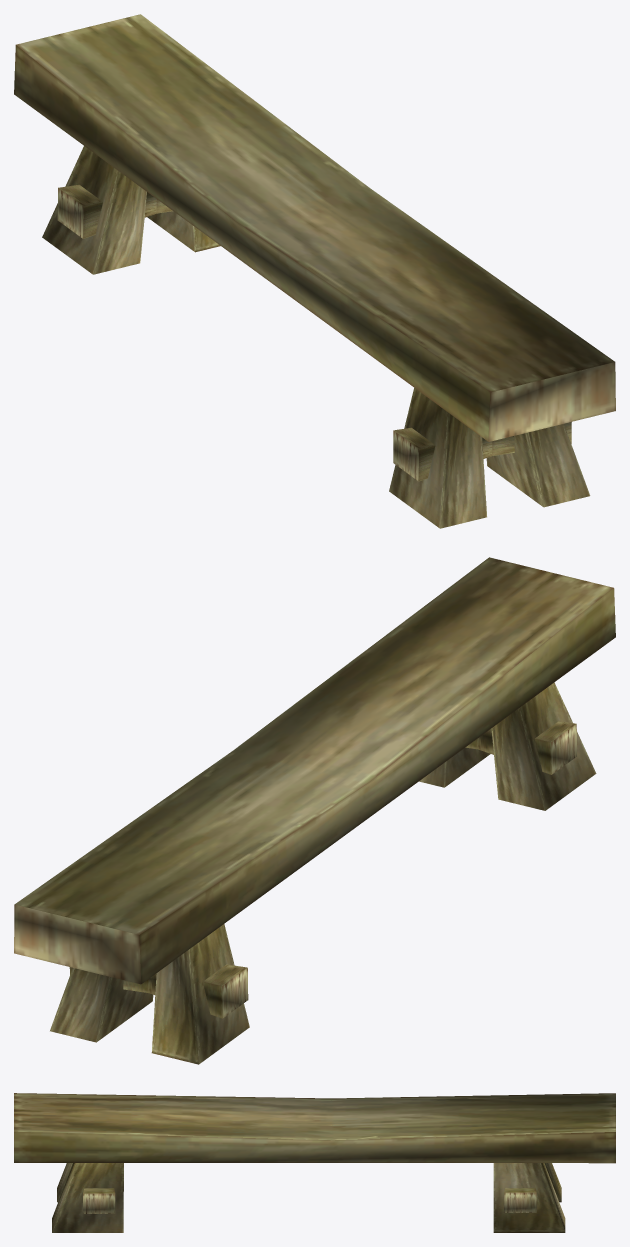
The model's file is duskwoodbench.obj.
The picture shows the model from 3 angles, top to bottom: view 1: azimuth 30°, elevation 25°; view 2: azimuth 150°, elevation 25°; view 3: azimuth 270°, elevation 25°; orthographic projection. The views are drawn at different scales.
Parts seen in each view (by area): view 1: duskwoodbench0; view 2: duskwoodbench0; view 3: duskwoodbench0.
Boxes of the visible parts, <box> form: duskwoodbench0: <box>14,14,615,528</box>; duskwoodbench0: <box>14,557,615,1064</box>; duskwoodbench0: <box>14,1093,615,1232</box>.
Size of the model in its own units: 0.8077 by 0.7759 by 4.25.
Materials: 1 (1 with a texture image).
